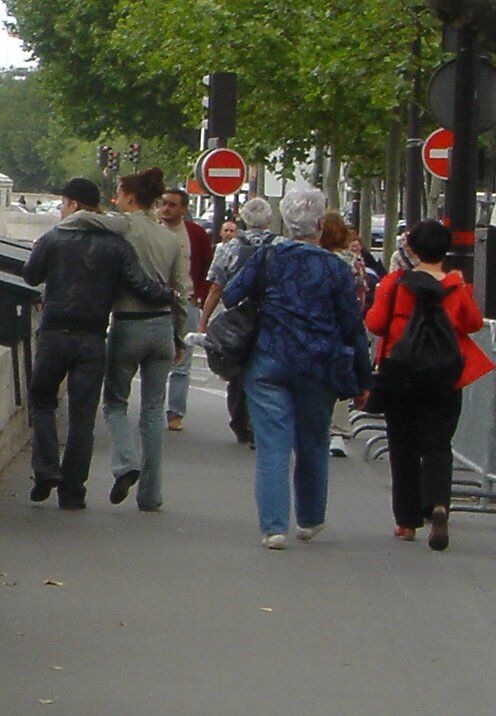person: (232, 192, 385, 553), (369, 221, 485, 536)
